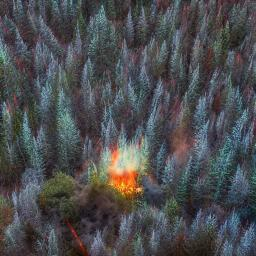Small fire: (90, 129, 167, 227)
